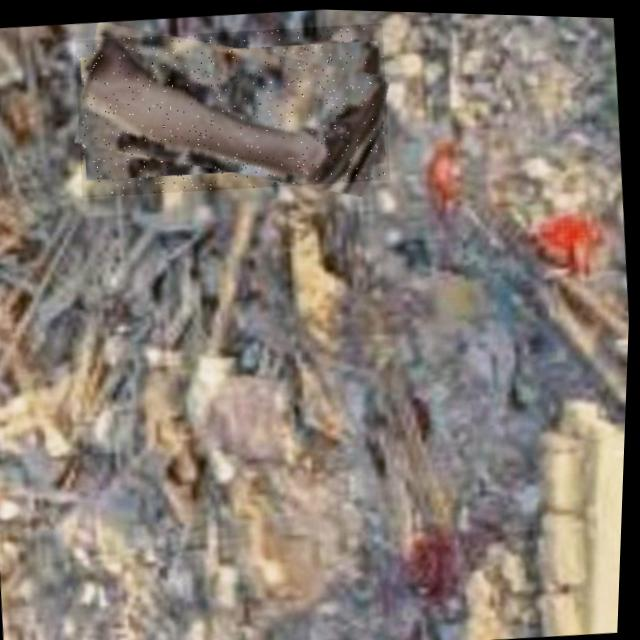Person in Rubble: (69, 12, 396, 203)
